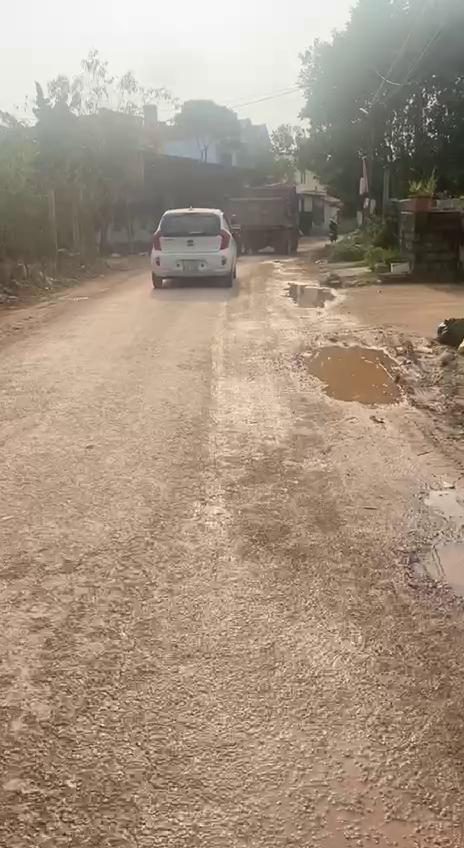pothole: (284, 337, 414, 412), (396, 476, 464, 604), (284, 280, 336, 312)
